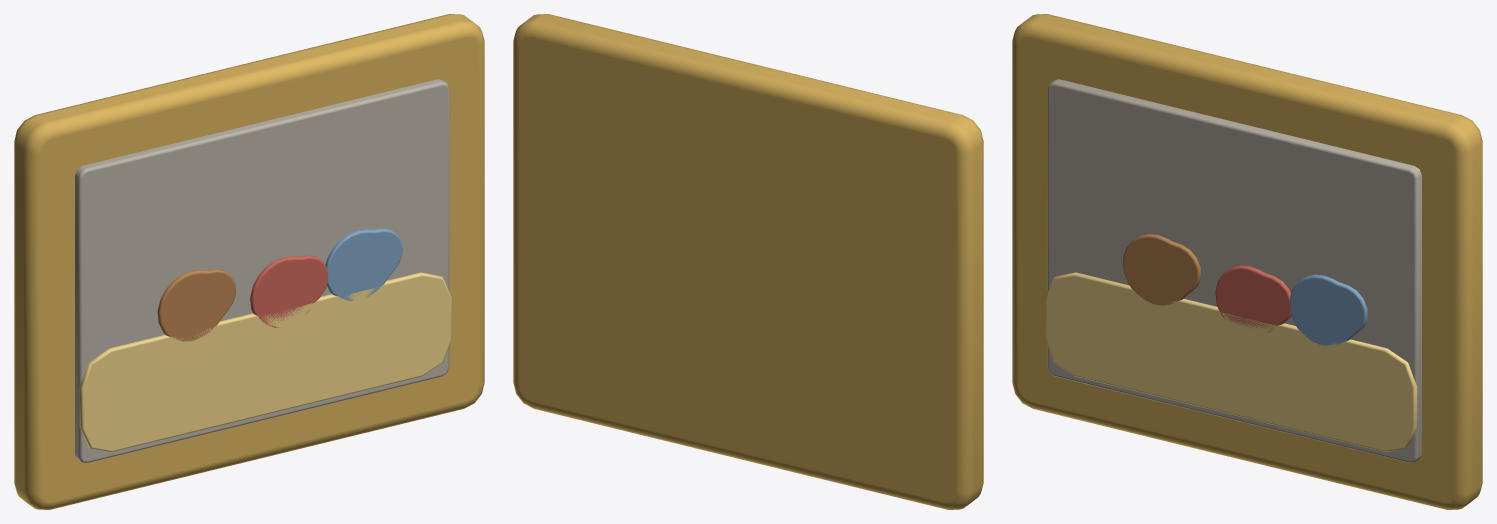
File: framed_painting_field.glb
The picture shows the model from 3 angles, left to right: view 1: azimuth 30°, elevation 25°; view 2: azimuth 150°, elevation 25°; view 3: azimuth 330°, elevation 25°; orthographic projection.
Parts seen in each view (by area): view 1: framed_painting_field_mesh; view 2: framed_painting_field_mesh; view 3: framed_painting_field_mesh.
Part boxes in pixels (x1=…): framed_painting_field_mesh: x1=14, y1=14, x2=484, y2=509; framed_painting_field_mesh: x1=513, y1=14, x2=983, y2=509; framed_painting_field_mesh: x1=1012, y1=14, x2=1482, y2=509.
Size of the model in its own units: 0.62 by 0.5 by 0.067.
